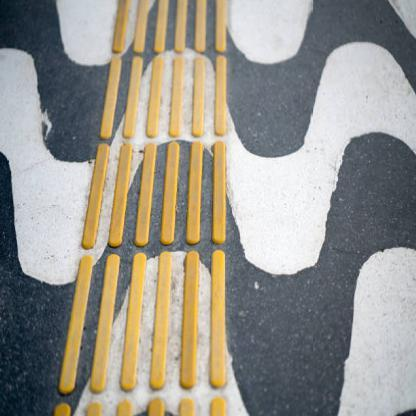podotacti: (53, 0, 227, 415)
